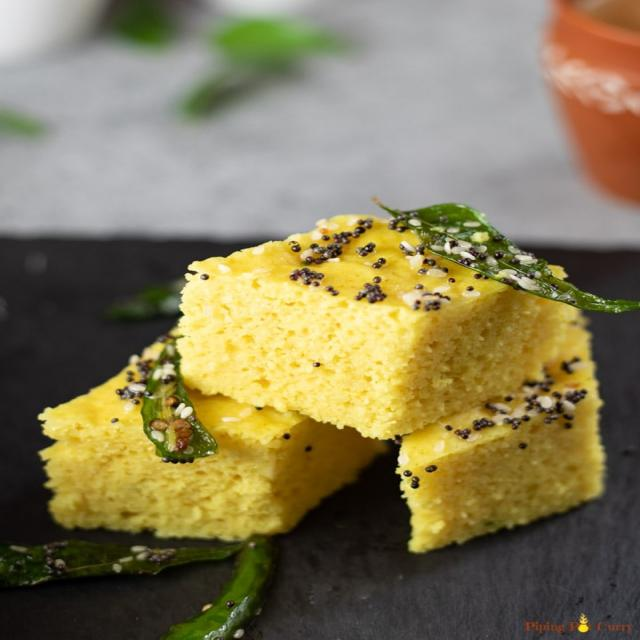dhokla: (118, 213, 590, 552)
